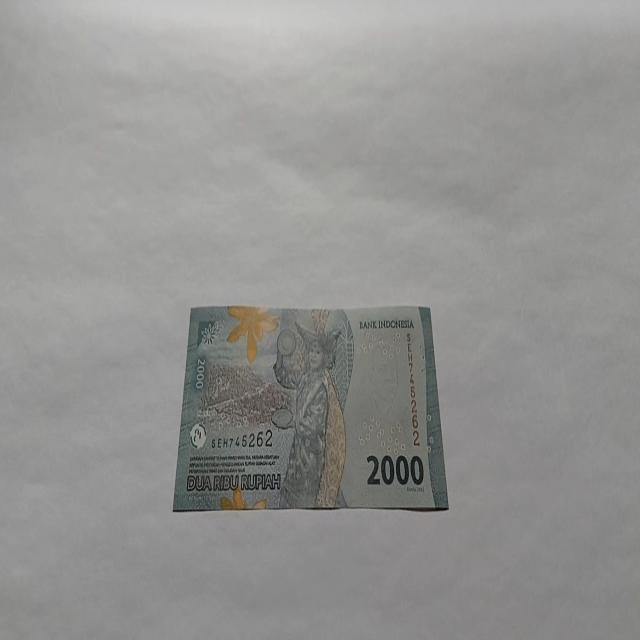dua ribu rupiah: (172, 302, 448, 512), (270, 316, 349, 508)
